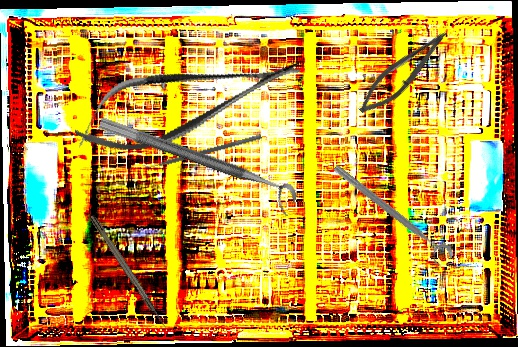Fixation Ring: (92, 116, 300, 217), (325, 161, 456, 270)
Hook Surgical: (89, 213, 168, 331)
Micro Scissor: (65, 36, 310, 166), (352, 19, 454, 124)
Spatula Surgical: (141, 129, 262, 173)
